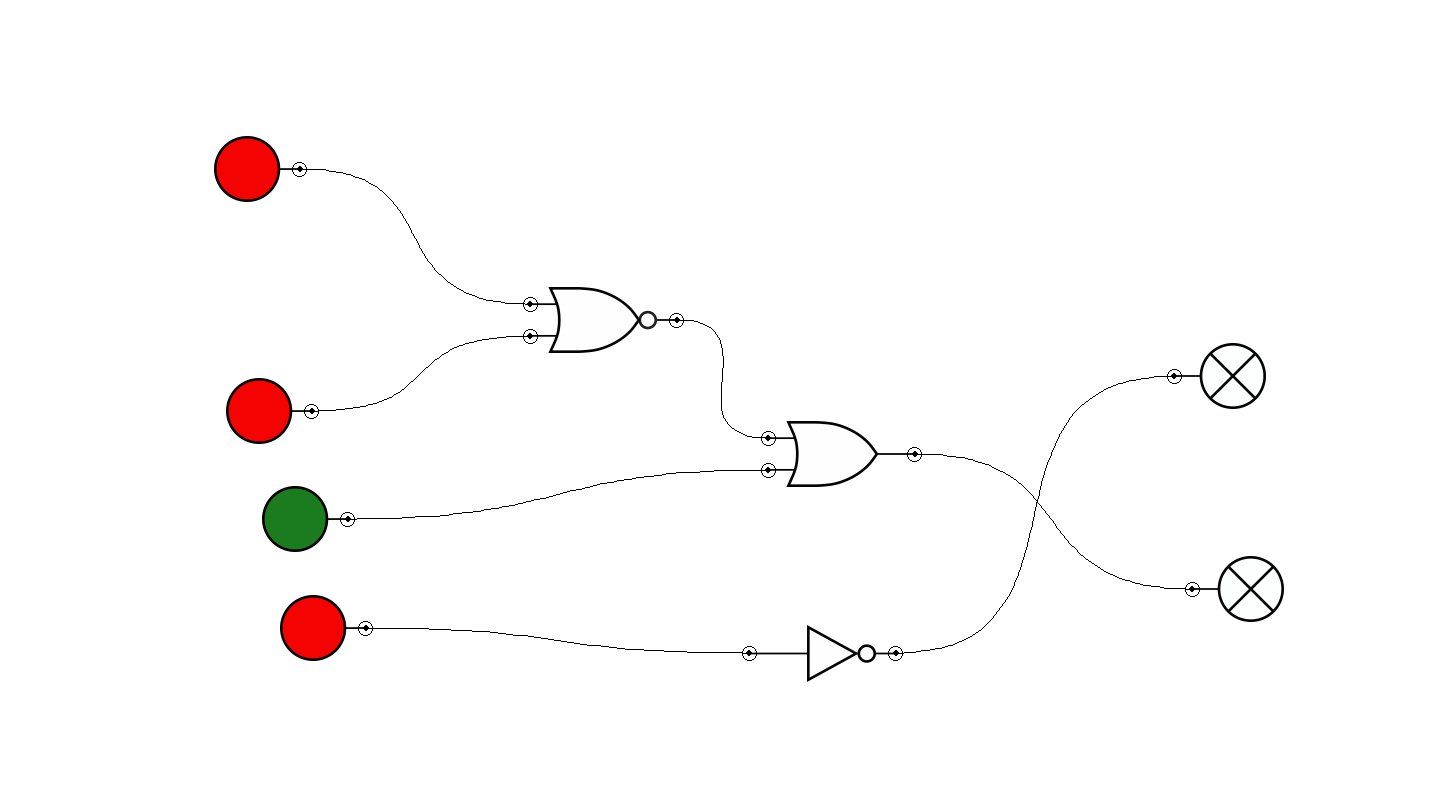bulb: (1185, 556, 1284, 622), (1167, 343, 1266, 409)
nor: (523, 287, 684, 353)
not: (742, 625, 903, 682)
or: (761, 421, 922, 487)
switch_False: (214, 136, 307, 202), (226, 378, 319, 444), (280, 595, 373, 661)
switch_True: (262, 486, 355, 552)
